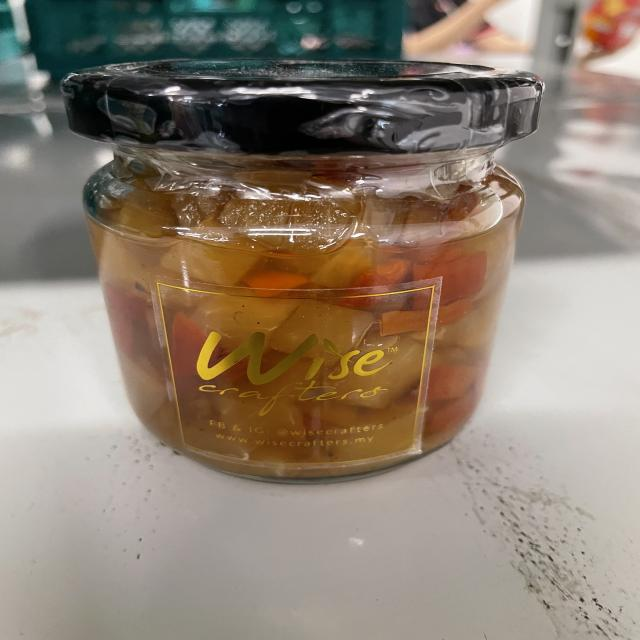object_name: (68, 60, 541, 480)
